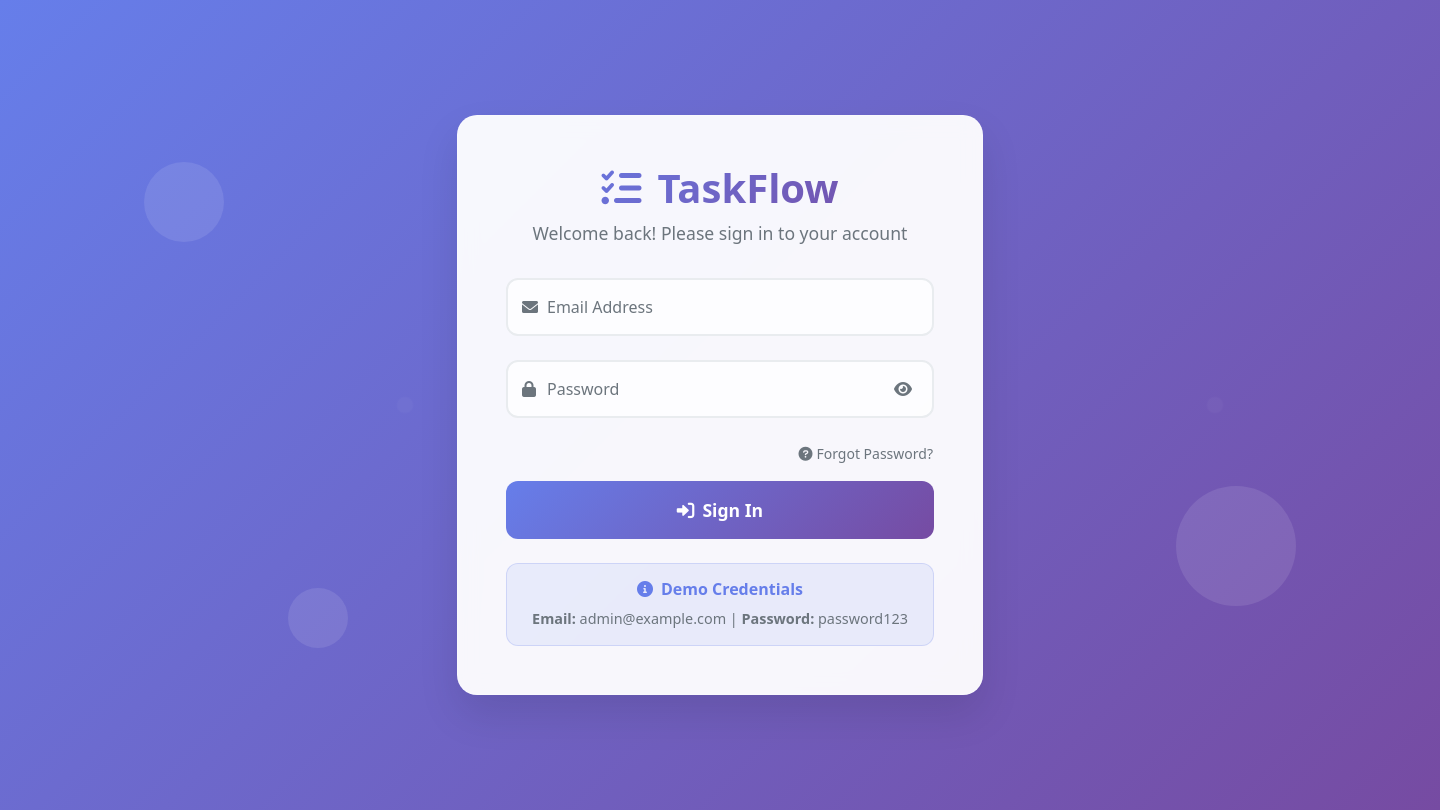
it: LoginForm › toggles password visibility
Type "password123" into the password field labelled "Password" at (720, 389), box [506,360,934,418]
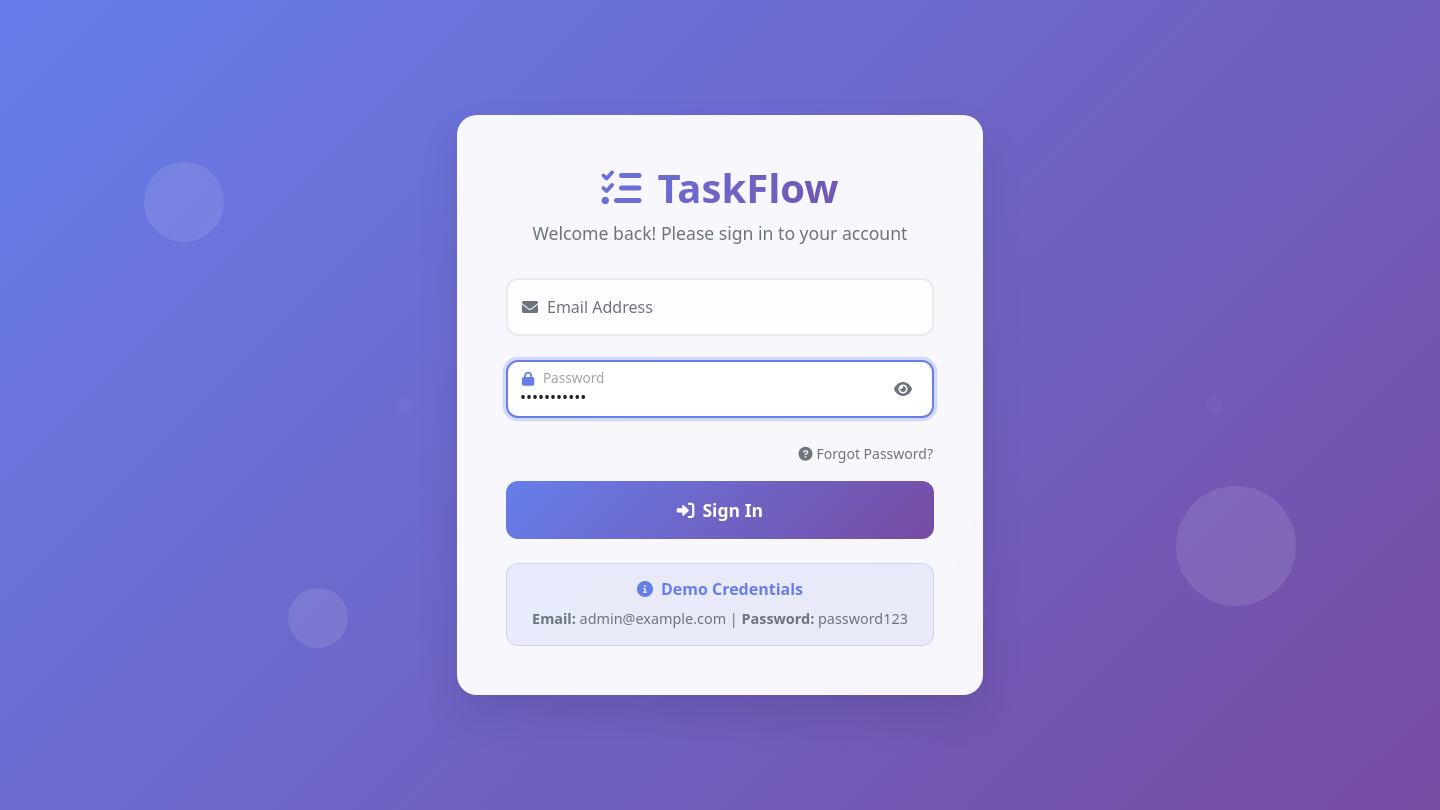
Click the 1st button at (903, 389), box [888,376,918,402]
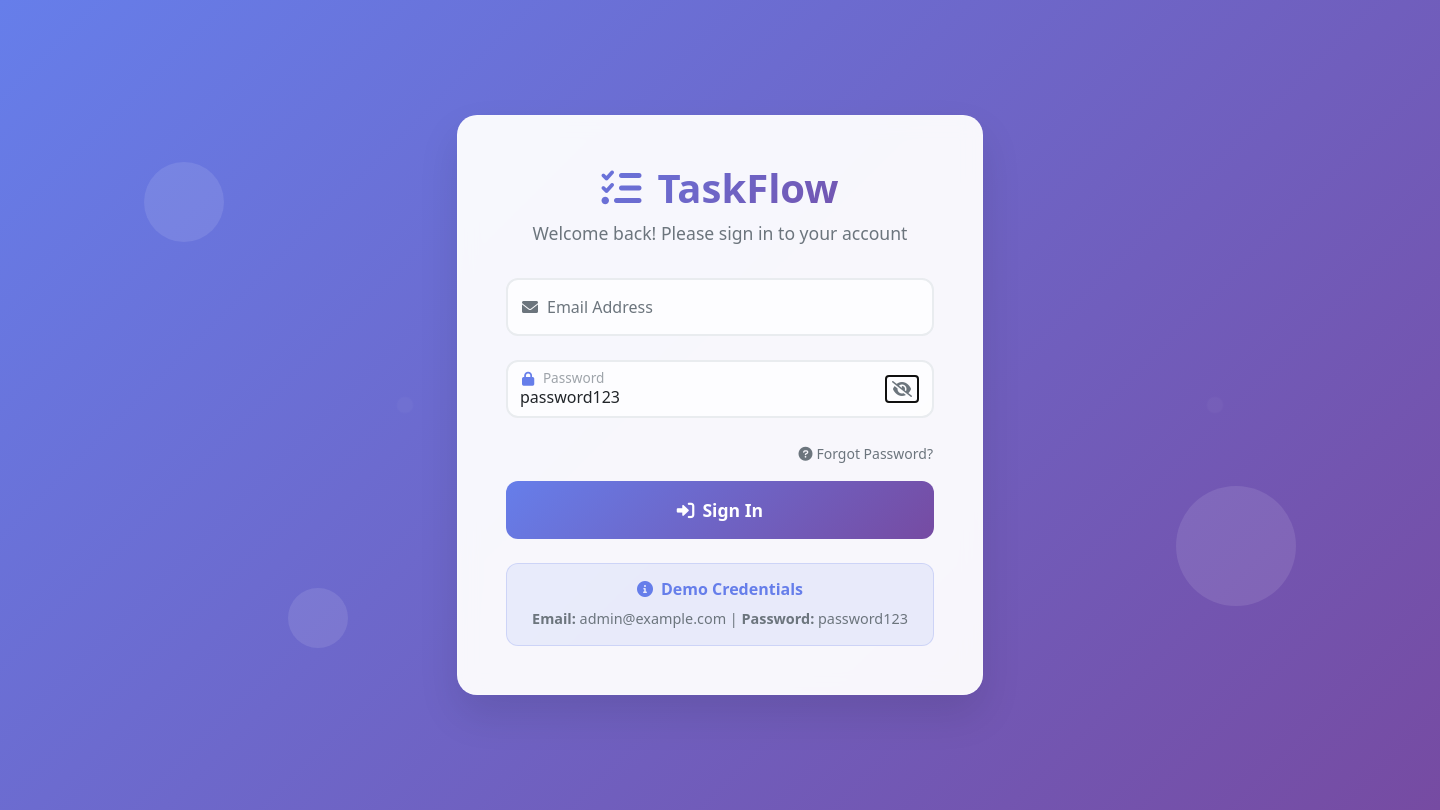
Expected: the field labelled "Password" shows its text, [506,360,934,418]
Click the 1st button at (902, 389), box [886,376,918,402]
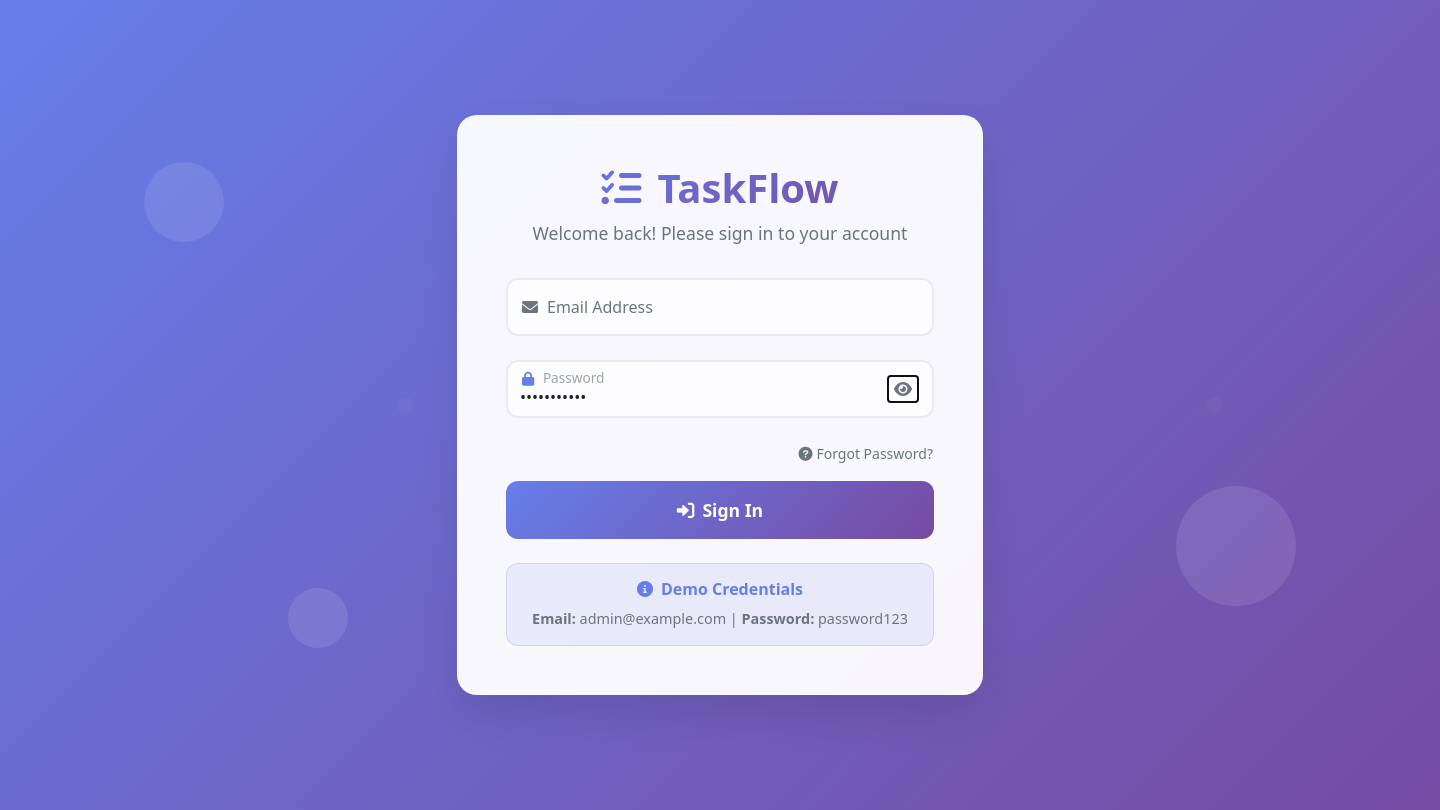
Expected: the password field labelled "Password" hides its text, [506,360,934,418]
